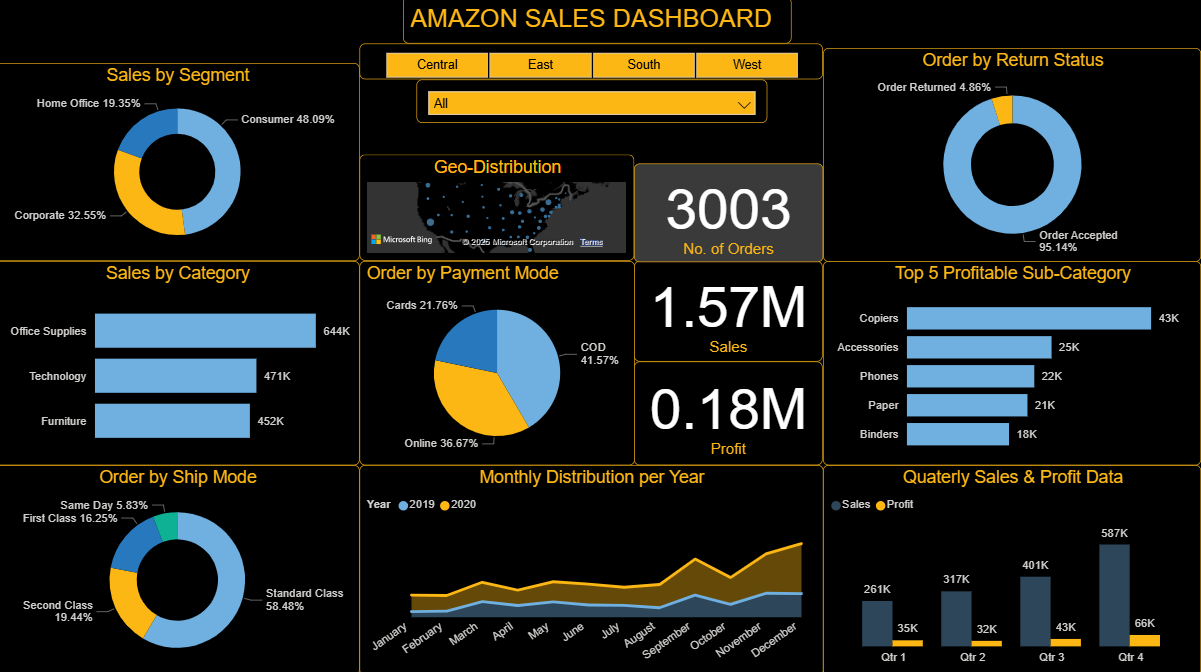

Layout of this report page (visuals, bound fields, positions):
{"tool":"powerbi","page":{"name":"Page 1","canvas":[1280,720],"ordinal":0},"visuals":[{"type":"donutChart","title":"Sales by Segment","fields":{"Category":["Amazon Store Sales Data xlsx - Sheet1 (1).Segment"],"Y":["Sum(Amazon Store Sales Data xlsx - Sheet1 (1).Sales)"]},"box":[0,70,386.7,210],"z":0},{"type":"donutChart","title":"Order by Ship Mode","fields":{"Category":["Amazon Store Sales Data xlsx - Sheet1 (1).Ship Mode"],"Y":["CountNonNull(Amazon Store Sales Data xlsx - Sheet1 (1).Product ID)"]},"box":[0,496.7,386.7,223.3],"z":1000},{"type":"pieChart","title":"Order by Payment Mode","fields":{"Category":["Amazon Store Sales Data xlsx - Sheet1 (1).Payment Mode"],"Y":["CountNonNull(Amazon Store Sales Data xlsx - Sheet1 (1).Order ID)"]},"box":[386.7,280,291.7,216.7],"z":2000},{"type":"donutChart","title":"Order by Return Status","fields":{"Y":["CountNonNull(Amazon Store Sales Data xlsx - Sheet1 (1).Order ID)"],"Category":["Amazon Store Sales Data xlsx - Sheet1 (1).Return Status"]},"box":[878.3,53.3,401.7,226.7],"z":3000},{"type":"slicer","fields":{"Values":["Amazon Store Sales Data xlsx - Sheet1 (1).Region"]},"box":[386.5,49.3,491.5,38.2],"z":4000},{"type":"slicer","fields":{"Values":["Amazon Store Sales Data xlsx - Sheet1 (1).State"]},"box":[447,87.5,372.2,46.1],"z":5000},{"type":"stackedAreaChart","title":"Monthly Distribution per Year","fields":{"Category":["Amazon Store Sales Data xlsx - Sheet1 (1).Order Date.Variation.Date Hierarchy.Month"],"Y":["Sum(Amazon Store Sales Data xlsx - Sheet1 (1).Sales)"],"Series":["Amazon Store Sales Data xlsx - Sheet1 (1).Order Date.Variation.Date Hierarchy.Year"]},"box":[386.7,496.7,491.7,223.3],"z":6000},{"type":"clusteredColumnChart","title":"Quaterly Sales & Profit Data","fields":{"Category":["Amazon Store Sales Data xlsx - Sheet1 (1).Order Date.Variation.Date Hierarchy.Quarter"],"Y":["Sum(Amazon Store Sales Data xlsx - Sheet1 (1).Sales)","Sum(Amazon Store Sales Data xlsx - Sheet1 (1).Profit)"]},"box":[878.3,496.7,401.7,223.3],"z":7000},{"type":"clusteredBarChart","title":"Sales by Category","fields":{"Category":["Amazon Store Sales Data xlsx - Sheet1 (1).Category"],"Y":["Sum(Amazon Store Sales Data xlsx - Sheet1 (1).Sales)"]},"box":[0,280,386.7,216.7],"z":8000},{"type":"clusteredBarChart","title":"Top 5 Profitable Sub-Category","fields":{"Category":["Amazon Store Sales Data xlsx - Sheet1 (1).Sub-Category"],"Y":["Sum(Amazon Store Sales Data xlsx - Sheet1 (1).Profit)"]},"box":[878.3,280,401.7,216.7],"z":9000},{"type":"textbox","box":[411.7,0,411.7,50],"z":10000},{"type":"card","fields":{"Values":["Sum(Amazon Store Sales Data xlsx - Sheet1 (1).Sales)"]},"box":[678.3,280,200,106.7],"z":11000},{"type":"card","fields":{"Values":["Sum(Amazon Store Sales Data xlsx - Sheet1 (1).Profit)"]},"box":[678.3,386.7,200,110],"z":12000},{"type":"map","title":"Geo-Distribution","fields":{"Category":["Amazon Store Sales Data xlsx - Sheet1 (1).State"],"Size":["Sum(Amazon Store Sales Data xlsx - Sheet1 (1).Sales)"]},"box":[386.5,167,291.1,112.9],"z":13000},{"type":"card","fields":{"Values":["Count(Amazon Store Sales Data xlsx - Sheet1 (1).Order ID)"]},"box":[677.6,176.6,200.4,105],"z":14000}]}

Visuals, with their boxes in screenshot pixels (x1, y1, x2, y2), scaled from the page's 1280x720 canvas onto the 1201x672 screenshot:
"Sales by Segment" donutChart: {"left": 0, "top": 65, "right": 363, "bottom": 261}
"Order by Ship Mode" donutChart: {"left": 0, "top": 464, "right": 363, "bottom": 671}
"Order by Payment Mode" pieChart: {"left": 363, "top": 261, "right": 637, "bottom": 464}
"Order by Return Status" donutChart: {"left": 824, "top": 50, "right": 1200, "bottom": 261}
slicer - Amazon Store Sales Data xlsx - Sheet1 (1).Region: {"left": 363, "top": 46, "right": 824, "bottom": 82}
slicer - Amazon Store Sales Data xlsx - Sheet1 (1).State: {"left": 419, "top": 82, "right": 769, "bottom": 125}
"Monthly Distribution per Year" stackedAreaChart: {"left": 363, "top": 464, "right": 824, "bottom": 671}
"Quaterly Sales & Profit Data" clusteredColumnChart: {"left": 824, "top": 464, "right": 1200, "bottom": 671}
"Sales by Category" clusteredBarChart: {"left": 0, "top": 261, "right": 363, "bottom": 464}
"Top 5 Profitable Sub-Category" clusteredBarChart: {"left": 824, "top": 261, "right": 1200, "bottom": 464}
textbox: {"left": 386, "top": 0, "right": 773, "bottom": 47}
card - Sum(Amazon Store Sales Data xlsx - Sheet1 (1).Sales): {"left": 636, "top": 261, "right": 824, "bottom": 361}
card - Sum(Amazon Store Sales Data xlsx - Sheet1 (1).Profit): {"left": 636, "top": 361, "right": 824, "bottom": 464}
"Geo-Distribution" map: {"left": 363, "top": 156, "right": 636, "bottom": 261}
card - Count(Amazon Store Sales Data xlsx - Sheet1 (1).Order ID): {"left": 636, "top": 165, "right": 824, "bottom": 263}
